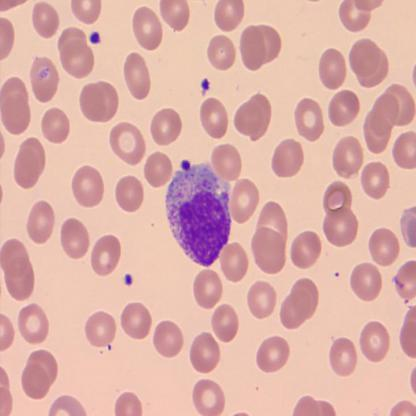Myelocyte: (164, 158, 236, 267)
